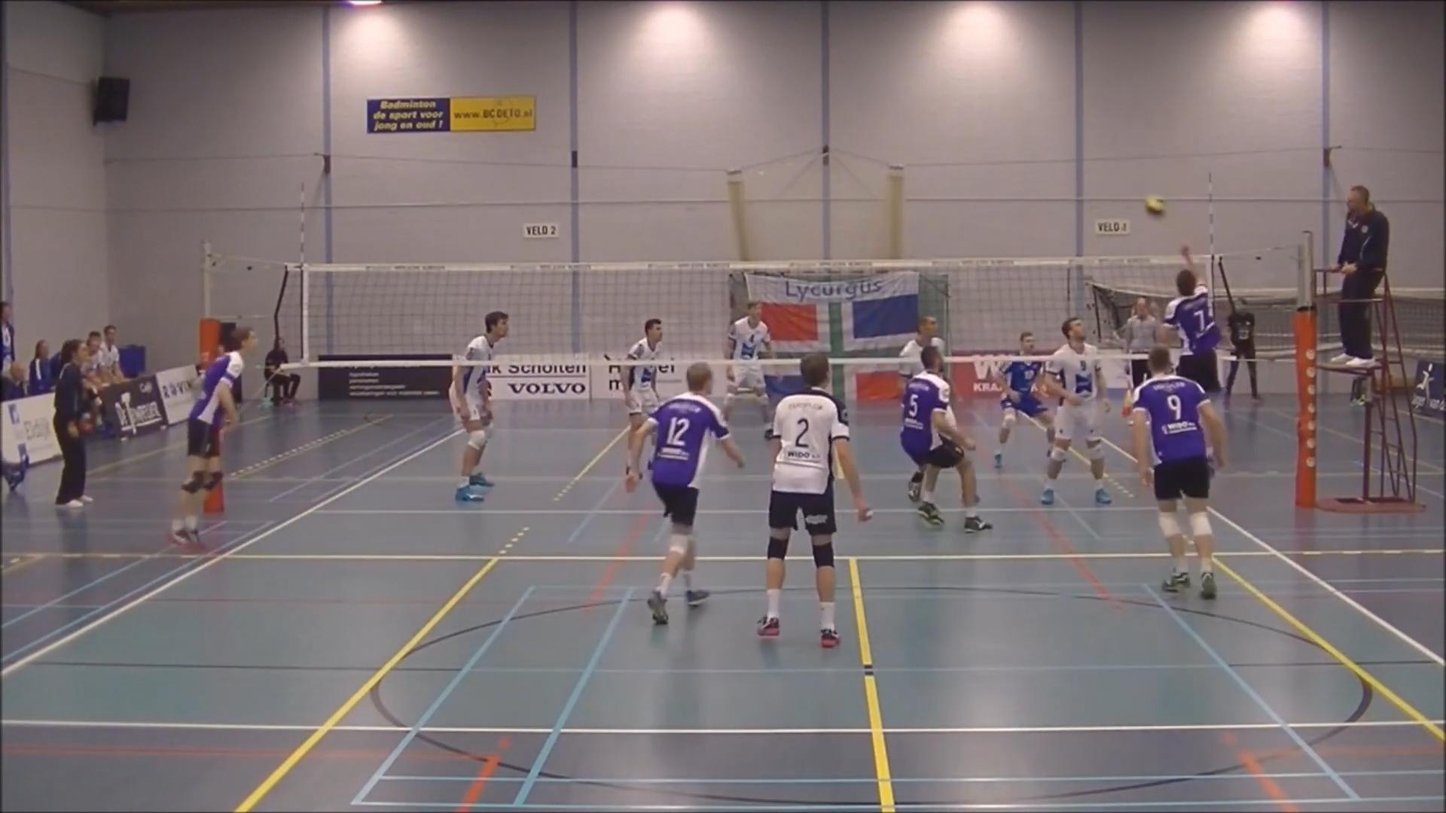attacco: (1145, 232, 1244, 433)
